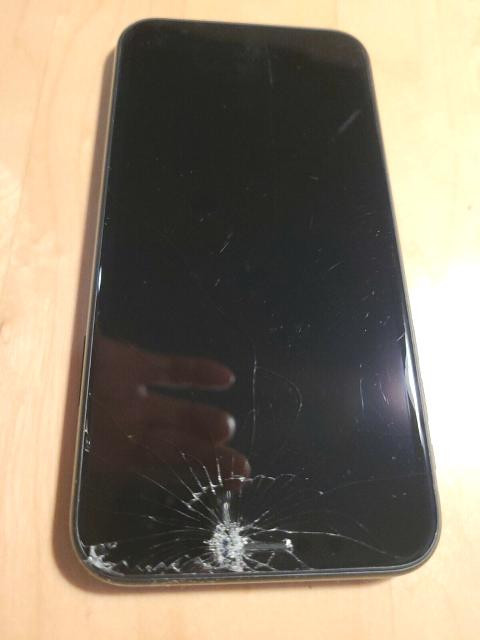Crack: (80, 353, 360, 582)
Scratches: (212, 232, 238, 264), (318, 257, 352, 276)
